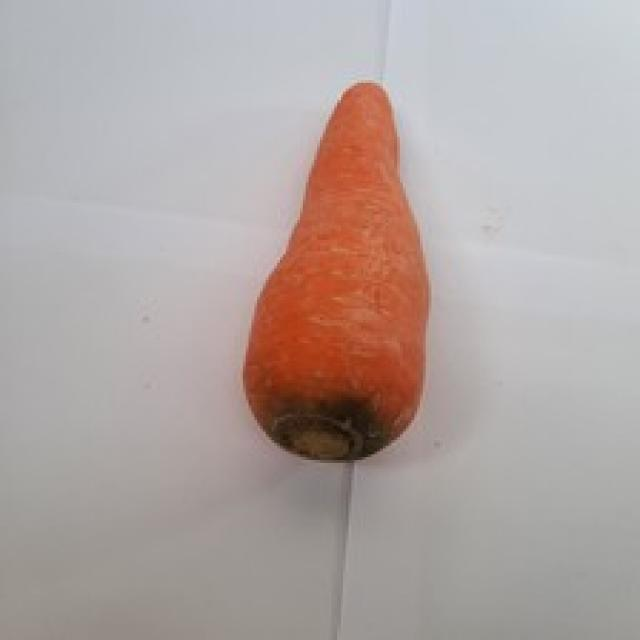carrot: (241, 79, 434, 462)
